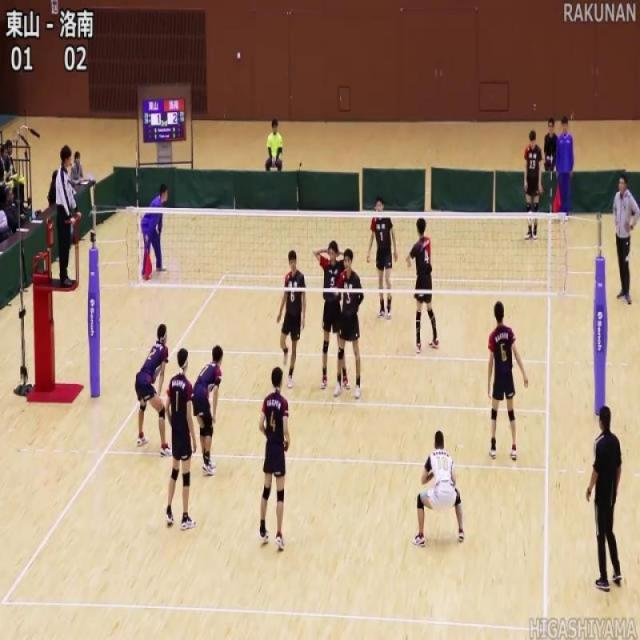volleyball: (526, 209, 535, 226)
